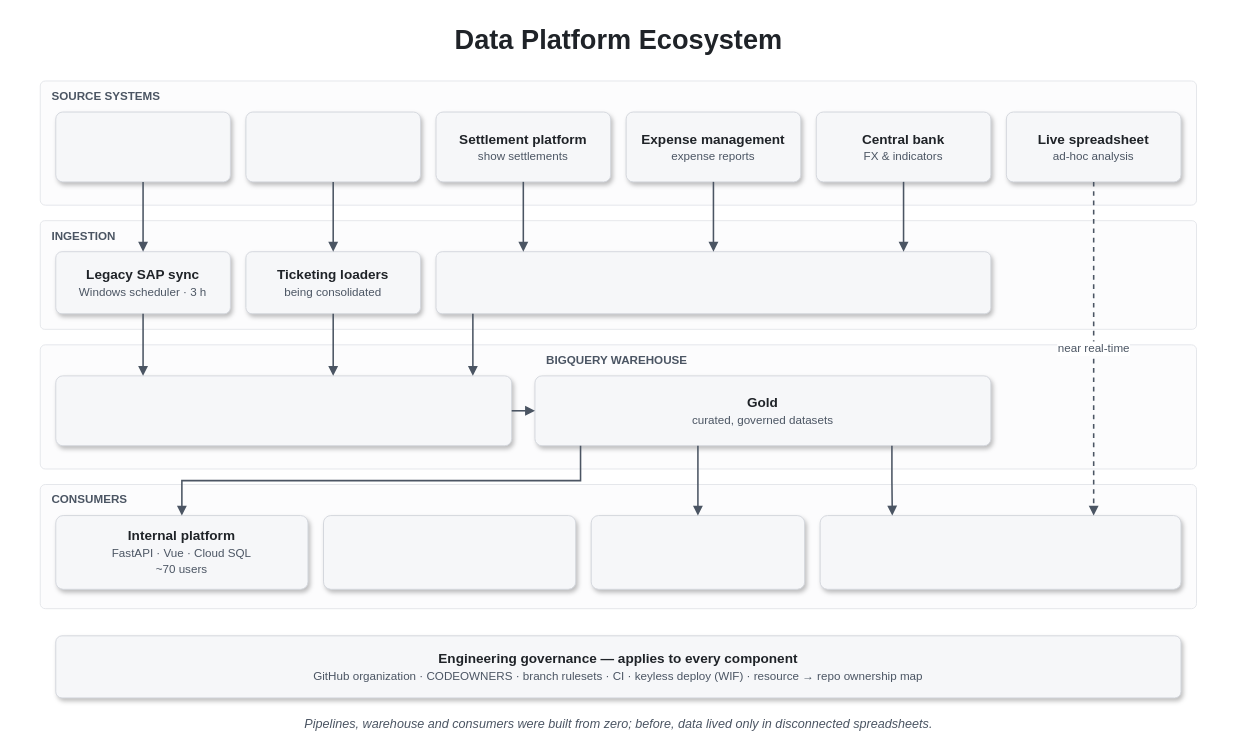
Some shapes in this 1236 by 749 pixel diagram are drawn without their labels. The shapes that lost their labels are listed below. From the top down, each one's centre as x and y in pixels, then its label:
At [143,148]: "SAP Business One ERP".
At [333,148]: "Ticketing providers ticket sales".
At [714,284]: "Cloud Run Jobs CI-deployed pipelines · daily 07:00".
At [284,412]: "Bronze landed source data · isolated project".
At [450,553]: "Cost & access portal billing · usage · IAM matrix".
At [698,553]: "Governed AI access read-only MCP".
At [1001,553]: "Executive & finance reporting single source of truth".
